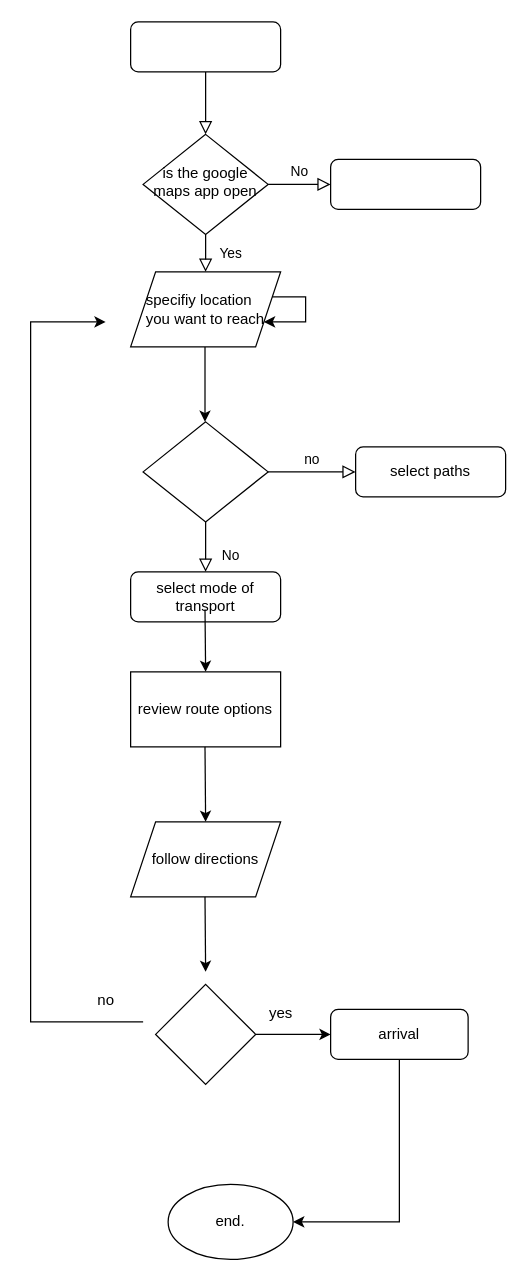
Some shapes in this 528 by 1281 pixel diagram are drawn without their labels. Here are the shapes that lost their labels. From the top down, the centre of each, then its label:
point (205, 46): start
point (405, 183): open google maps
point (205, 471): are paths available?
point (205, 1033): are you on the right route?
